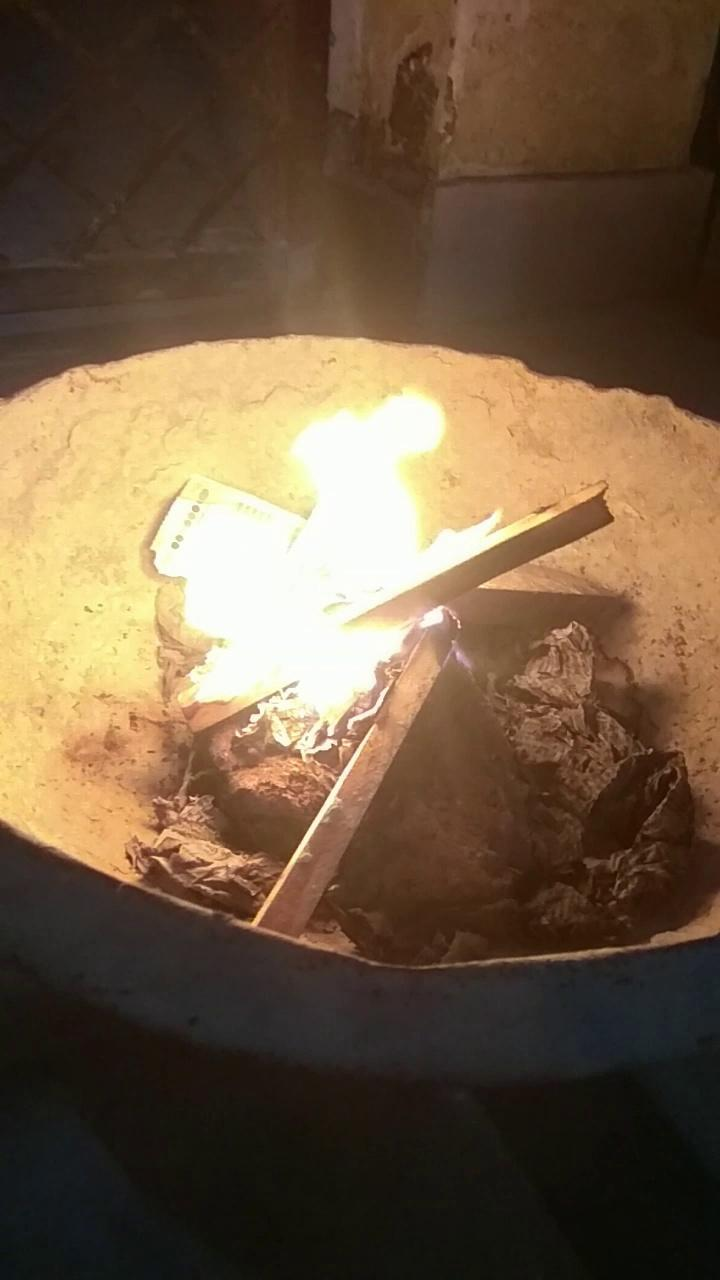fire: (158, 360, 490, 738)
